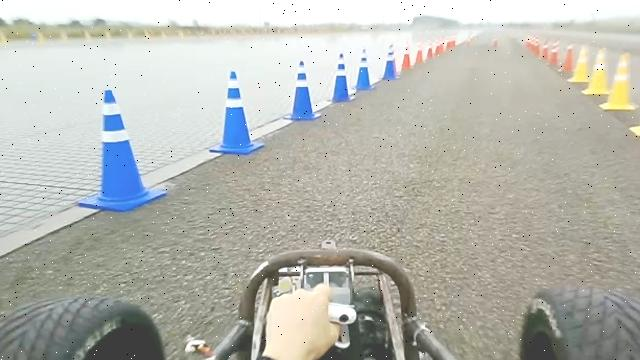blue cone: (78, 88, 167, 212), (208, 70, 264, 155), (283, 60, 322, 121), (328, 52, 354, 102), (354, 47, 374, 91), (381, 44, 400, 80)
red cone: (558, 44, 574, 73), (401, 41, 413, 70), (415, 42, 424, 64)
yellow cone: (598, 52, 636, 110), (581, 47, 610, 96), (567, 44, 590, 83)
